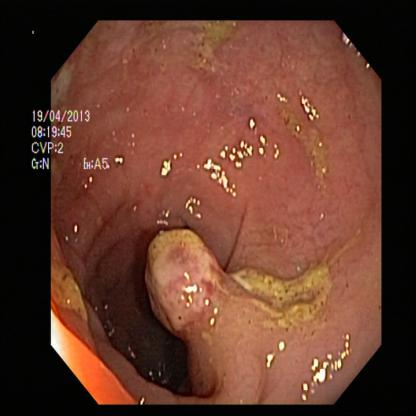Labels: (27, 100, 127, 173)
Polyps: (144, 226, 237, 349)
